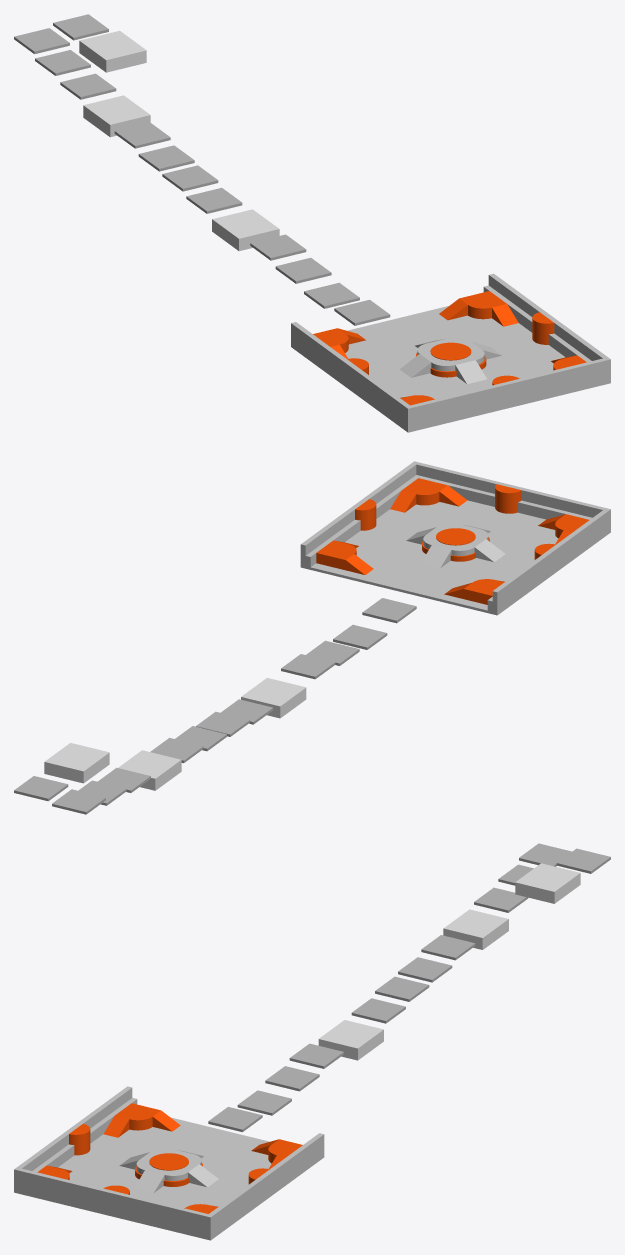
The model's file is Whitebox Level.fbx.
The picture shows the model from 3 angles, top to bottom: view 1: azimuth 30°, elevation 25°; view 2: azimuth 150°, elevation 25°; view 3: azimuth 330°, elevation 25°; orthographic projection. The views are drawn at different scales.
Parts seen in each view (by area): view 1: Floor, LevelMesh, SM_Cube19, SM_Cube5, SM_Cube20, Cube3, Cube, Cube2, SM_Cube17, SM_Cube3, SM_Cube2, SM_Cylinder; view 2: Floor, LevelMesh, SM_Cube19, SM_Cube20, Cube3, SM_Cube17, Cube, Cube2, SM_Cube3, SM_Cube5, SM_Cube2, SM_Cylinder (+2 smaller); view 3: Floor, LevelMesh, SM_Cube19, SM_Cube5, SM_Cube17, Cube3, Cube, Cube2, SM_Cube20, SM_Cube2, SM_Cube3, SM_Cylinder.
Part boxes in pixels (x1,y1,x2,y2): Floor: (291,305,610,432); LevelMesh: (14,14,390,325); SM_Cube19: (410,358,605,417); SM_Cube5: (418,372,600,427); SM_Cube20: (291,322,413,419); Cube3: (79,30,146,72); Cube: (212,209,279,251); Cube2: (83,95,150,137); SM_Cube17: (488,273,610,370); SM_Cube3: (291,334,418,429); SM_Cube2: (483,285,610,382); SM_Cylinder: (430,342,471,360); Floor: (300,500,610,615); LevelMesh: (14,598,416,814); SM_Cube19: (416,462,605,517); SM_Cube20: (492,508,610,602); Cube3: (44,743,109,783); SM_Cube17: (300,461,418,555); Cube: (241,678,306,718); Cube2: (118,750,181,790); SM_Cube3: (487,520,610,612); SM_Cube5: (419,476,592,519); SM_Cube2: (300,475,420,567); SM_Cylinder: (436,528,475,545); Floor: (14,1117,324,1240); LevelMesh: (208,843,610,1132); SM_Cube19: (19,1168,208,1226); SM_Cube5: (24,1182,200,1235); SM_Cube17: (205,1133,324,1227); Cube3: (515,863,580,903); Cube: (318,1020,383,1060); Cube2: (443,909,508,949); SM_Cube20: (14,1086,132,1180); SM_Cube2: (201,1145,324,1237); SM_Cube3: (14,1098,137,1192); SM_Cylinder: (149,1153,188,1170).
Size of what is drawn, in the model's own units: 4000 by 15970 by 1124.
